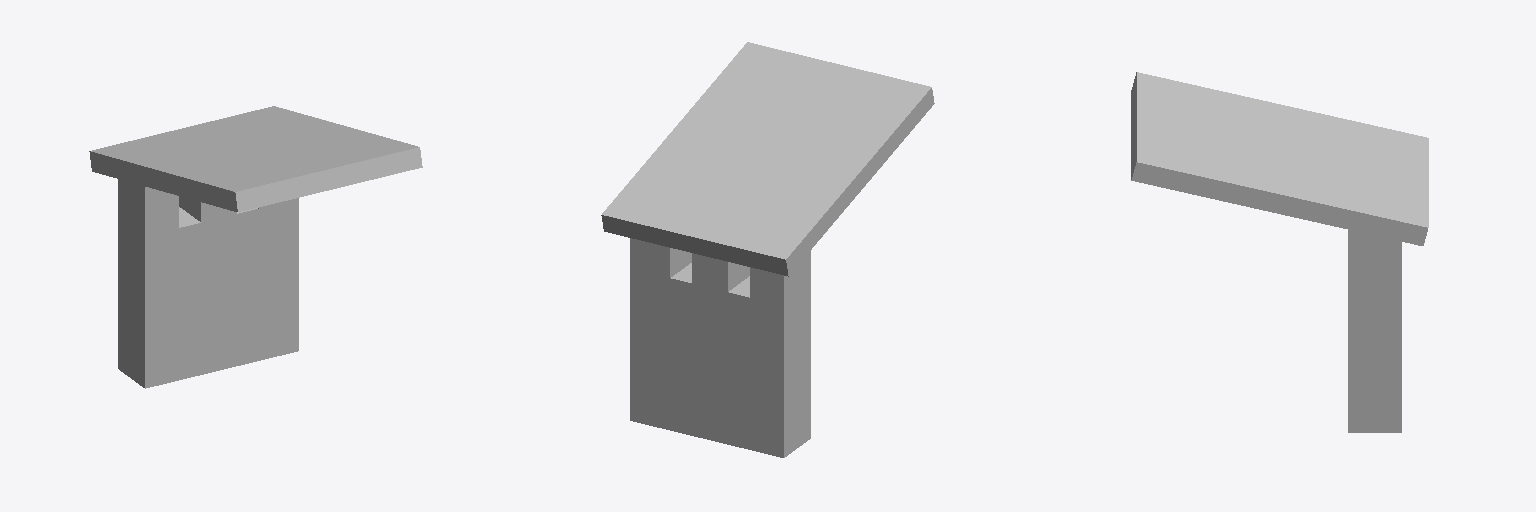
File: ShelterObject.obj
3 views of the same model, side by side, from view 1: azimuth 30°, elevation 25°; view 2: azimuth 150°, elevation 25°; view 3: azimuth 270°, elevation 25° (orthographic).
Parts seen in each view (by area): view 1: polySurface4; view 2: polySurface4; view 3: polySurface4.
Part boxes in pixels (bbox=[...]): polySurface4: bbox=[89, 106, 422, 388]; polySurface4: bbox=[601, 42, 934, 457]; polySurface4: bbox=[1131, 72, 1428, 432].
Bounding box in the file's own units: 15.86 × 22.81 × 22.1.